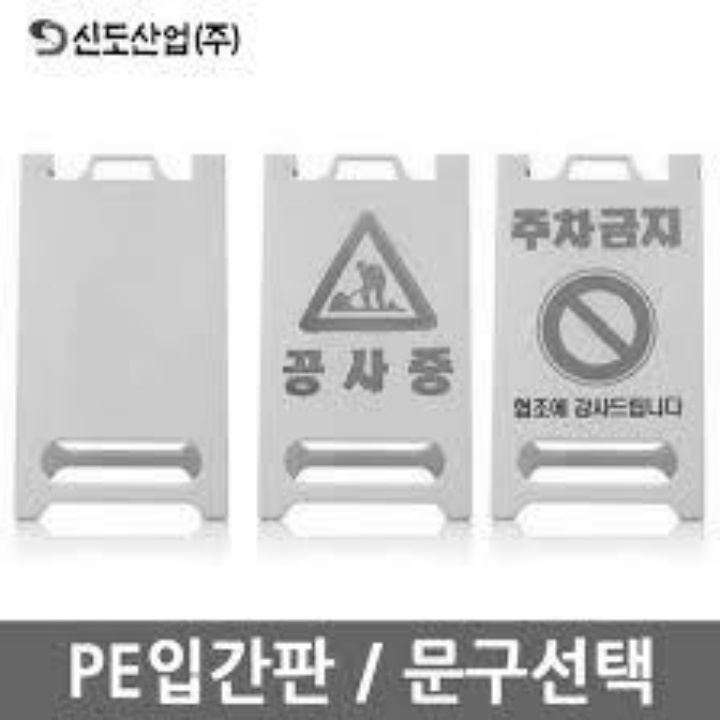const: (318, 250, 426, 319)
